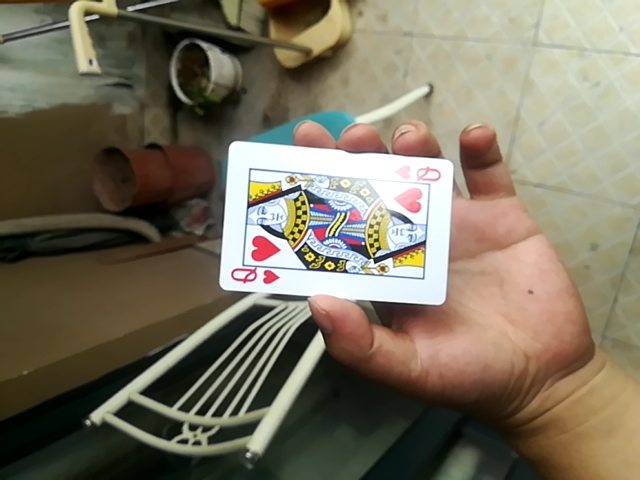hx q: (218, 140, 454, 302)
